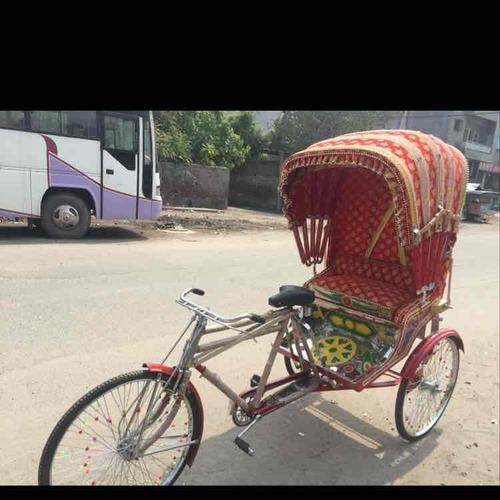Rickshaw: (45, 137, 451, 482)
